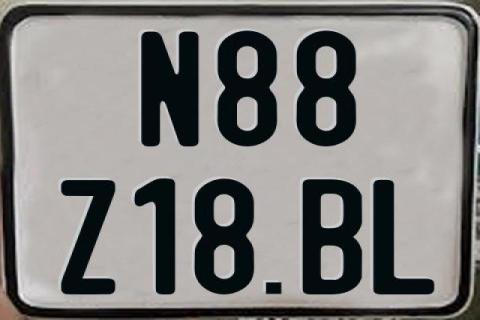0: (194, 176, 258, 294), (293, 31, 355, 149), (217, 28, 278, 146), (132, 178, 173, 296)
B: (301, 177, 362, 297)
L: (371, 180, 433, 294)
N: (140, 29, 204, 149)
Z: (60, 178, 119, 296)
